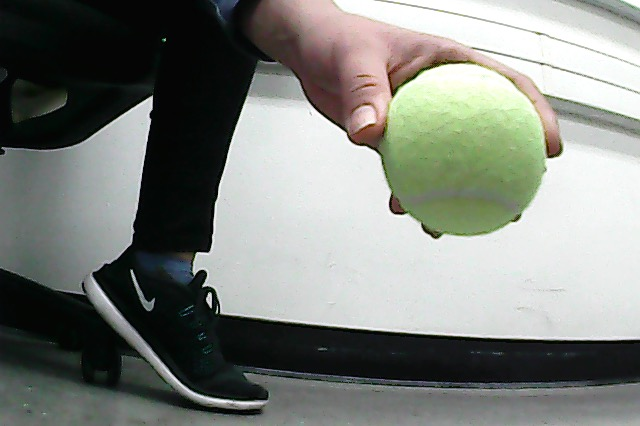ball: (377, 62, 549, 239)
